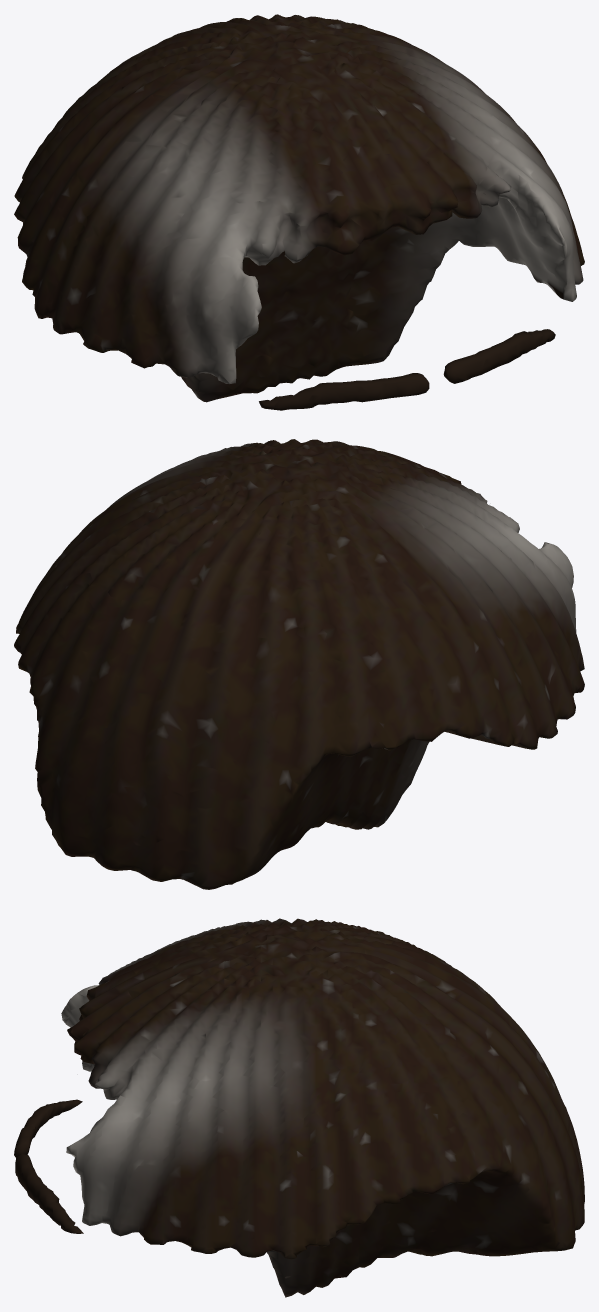
The model's file is tarik_hair.glb.
3 views of the same model, one above another, from view 1: azimuth 30°, elevation 25°; view 2: azimuth 150°, elevation 25°; view 3: azimuth 270°, elevation 25° (orthographic). The views are drawn at different scales.
Visible parts, largest first — view 1: geometry_0; view 2: geometry_0; view 3: geometry_0.
Boxes of the visible parts, <box> form: geometry_0: <box>14,14,584,410</box>; geometry_0: <box>14,439,584,889</box>; geometry_0: <box>14,918,584,1297</box>.
Size of the model in its own units: 0.1754 by 0.1134 by 0.1867.
